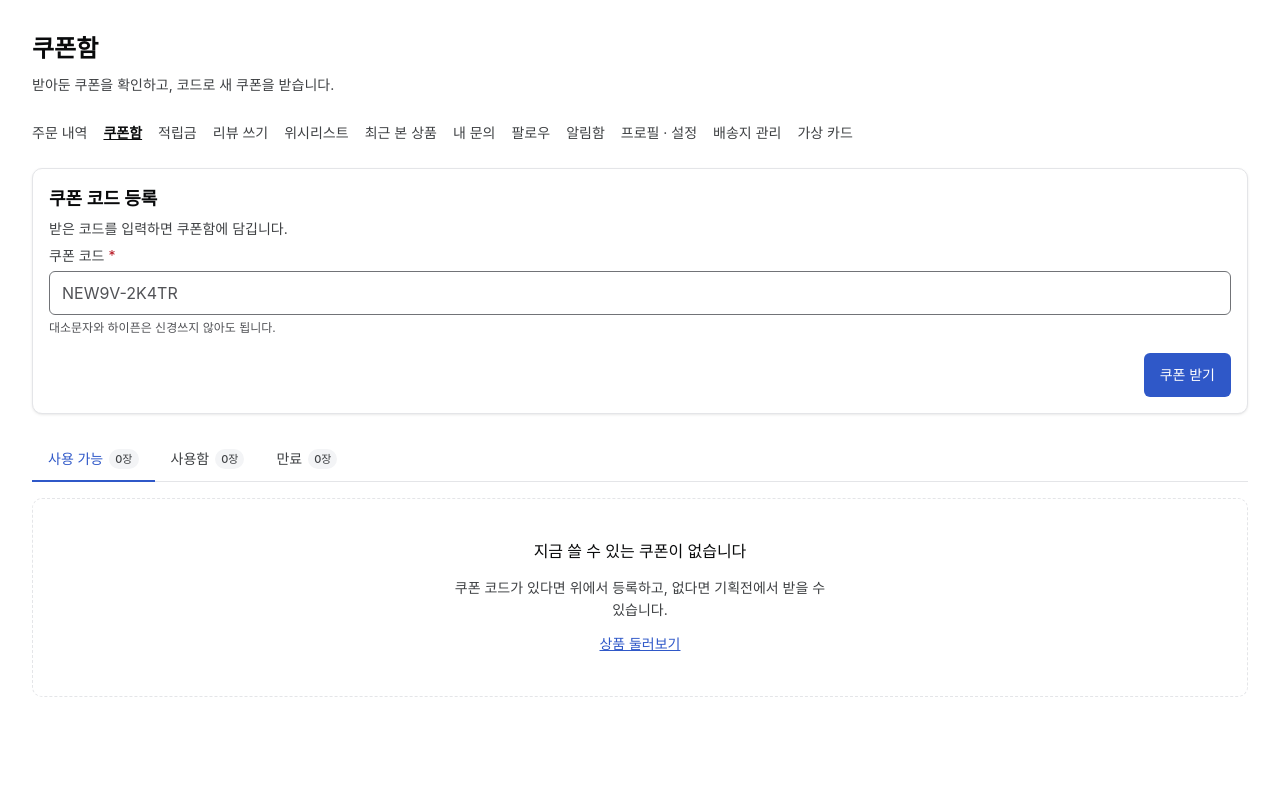
Test: 탭 셋 (F1) › says something different in each empty tab
Check: the heading "쿠폰함" is shown, box [32,34,98,63]
Check: the text "지금 쓸 수 있는 쿠폰이 없습니다" is shown, box [534,539,746,565]
Click the tab "만료 0장": coordinates (307, 460) [260,438,353,482]
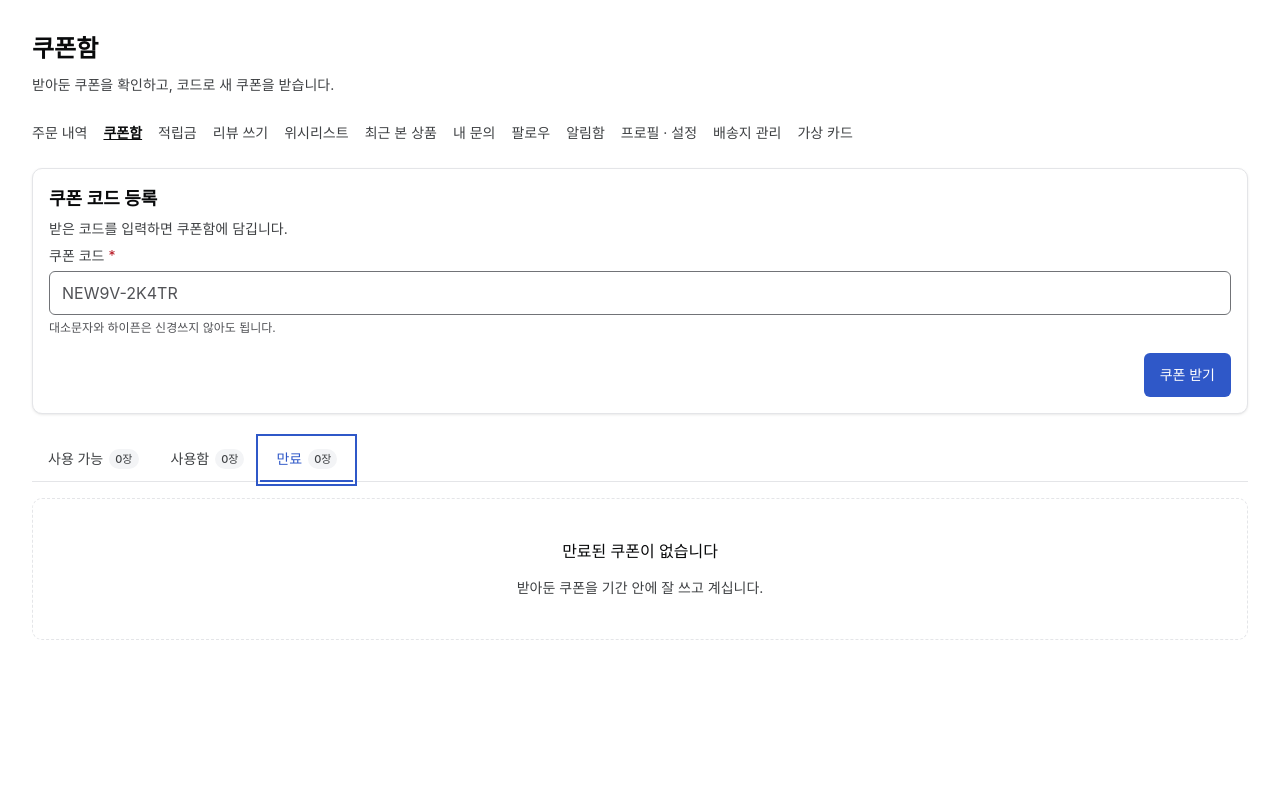
Check: the text "만료된 쿠폰이 없습니다" is shown, box [562,539,718,565]
Check: the link "상품 둘러보기" is gone
